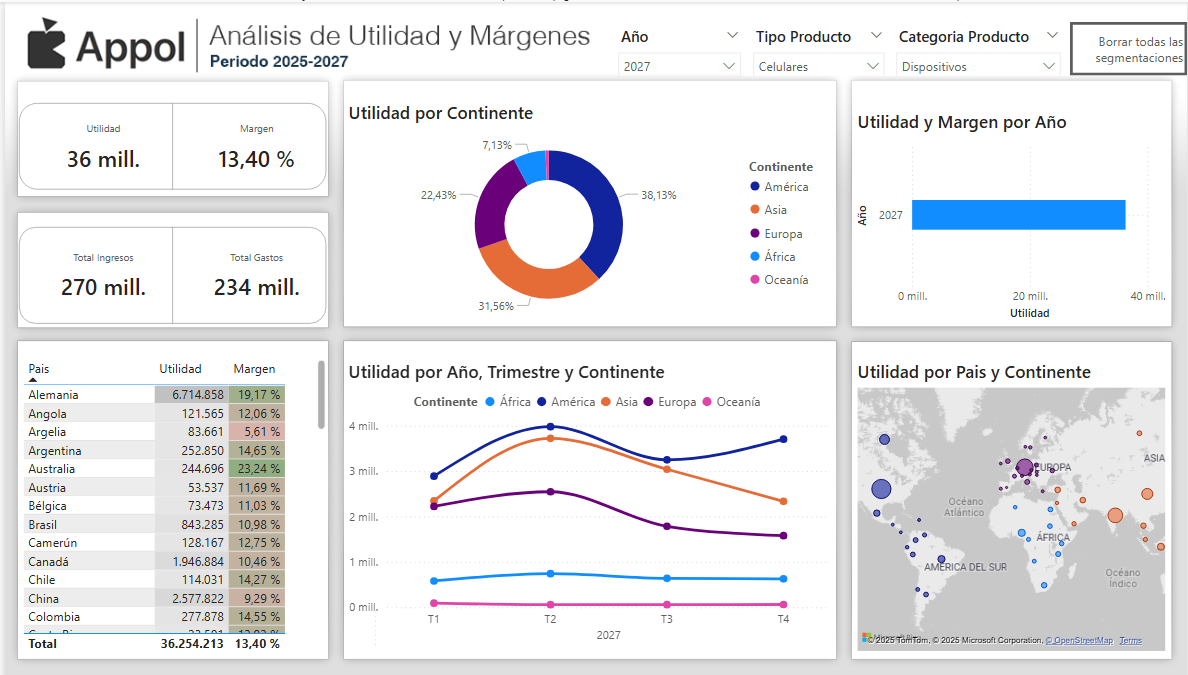

What the dashboard file says about the page in this screenshot:
{"tool":"powerbi","page":{"name":"Página 1","canvas":[1280,720],"ordinal":0},"visuals":[{"type":"tableEx","fields":{"Values":["DataSet.Region","Medidas.Total Utilidad","Medidas.Margen"]},"box":[14.1,360.5,337.8,325.9],"z":0},{"type":"cardVisual","fields":{"Data":["Medidas.Total Ingresos ","Medidas.Total Gastos"]},"box":[13.5,219.7,337.5,109.2],"z":1000},{"type":"barChart","fields":{"Category":["DataSet.Año"],"Y":["Medidas.Total Utilidad"]},"box":[918.1,95.3,343.2,232.8],"z":2000},{"type":"donutChart","fields":{"Category":["DataSet.Continente"],"Y":["Medidas.Total Utilidad"]},"box":[367,85.5,531.6,242.5],"z":3000},{"type":"map","fields":{"Category":["DataSet.Pais"],"Size":["Medidas.Total Utilidad"],"Series":["DataSet.Continente"]},"box":[918.1,366,343.2,320.5],"z":4000},{"type":"lineChart","fields":{"Y":["Medidas.Total Utilidad"],"Category":["DataSet.Año","DataSet.Trimestre"],"Series":["DataSet.Continente"]},"box":[367,366,531.6,320.5],"z":5000},{"type":"slicer","fields":{"Values":["DataSet.Año"]},"box":[654,0,152.7,59.5],"z":6000},{"type":"slicer","fields":{"Values":["Tabla Productos.Tipo Producto"]},"box":[800.1,0,162.4,58.5],"z":7000},{"type":"slicer","fields":{"Values":["Tabla Productos.Categoria Producto"]},"box":[954.9,0,198.1,58.5],"z":8000},{"type":"actionButton","box":[1153.1,0,126.7,58.5],"z":9000},{"type":"cardVisual","fields":{"Data":["Medidas.Total Utilidad","Medidas.Margen"]},"box":[13.5,85.9,338.7,98.2],"z":10000}]}

Visuals, with their boxes in screenshot pixels (x1, y1, x2, y2), scaled from the page's 1280x720 canvas onto the 1188x675 screenshot:
tableEx - DataSet.Region x Medidas.Total Utilidad: left=13, top=338, right=327, bottom=644
cardVisual - Medidas.Total Ingresos  x Medidas.Total Gastos: left=13, top=206, right=326, bottom=308
barChart - DataSet.Año x Medidas.Total Utilidad: left=852, top=89, right=1171, bottom=308
donutChart - DataSet.Continente x Medidas.Total Utilidad: left=341, top=80, right=834, bottom=308
map - DataSet.Pais x Medidas.Total Utilidad: left=852, top=343, right=1171, bottom=644
lineChart - Medidas.Total Utilidad x DataSet.Año: left=341, top=343, right=834, bottom=644
slicer - DataSet.Año: left=607, top=0, right=749, bottom=56
slicer - Tabla Productos.Tipo Producto: left=743, top=0, right=893, bottom=55
slicer - Tabla Productos.Categoria Producto: left=886, top=0, right=1070, bottom=55
actionButton: left=1070, top=0, right=1187, bottom=55
cardVisual - Medidas.Total Utilidad x Medidas.Margen: left=13, top=81, right=327, bottom=173
